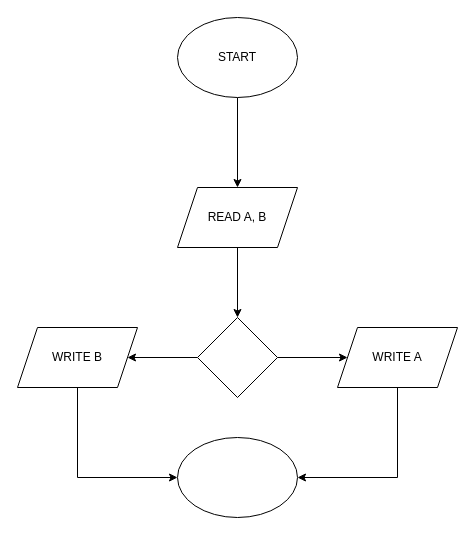
The diagram is 475 pixels wide and 535 high, and some of its shapes have lost their labels. The box of each missing label's shape, as (x1, y1, x2, y2) in pixels:
A >B?: (196, 316, 278, 398)
END: (176, 436, 298, 518)
